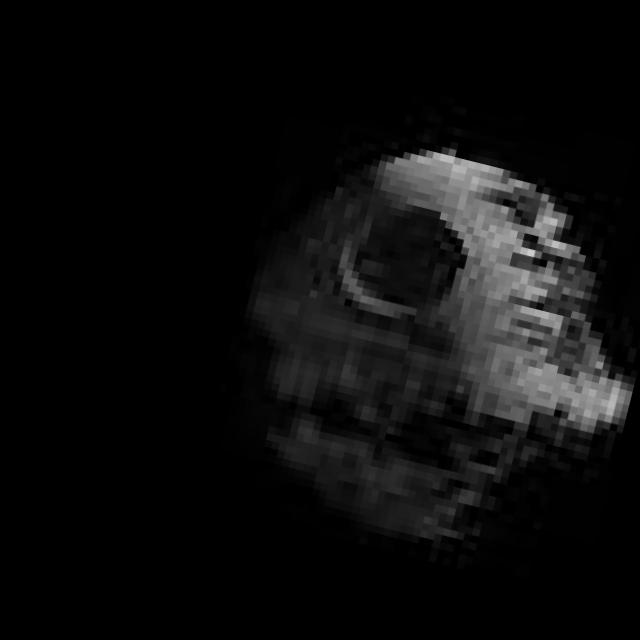Death Star: (190, 93, 640, 598)
